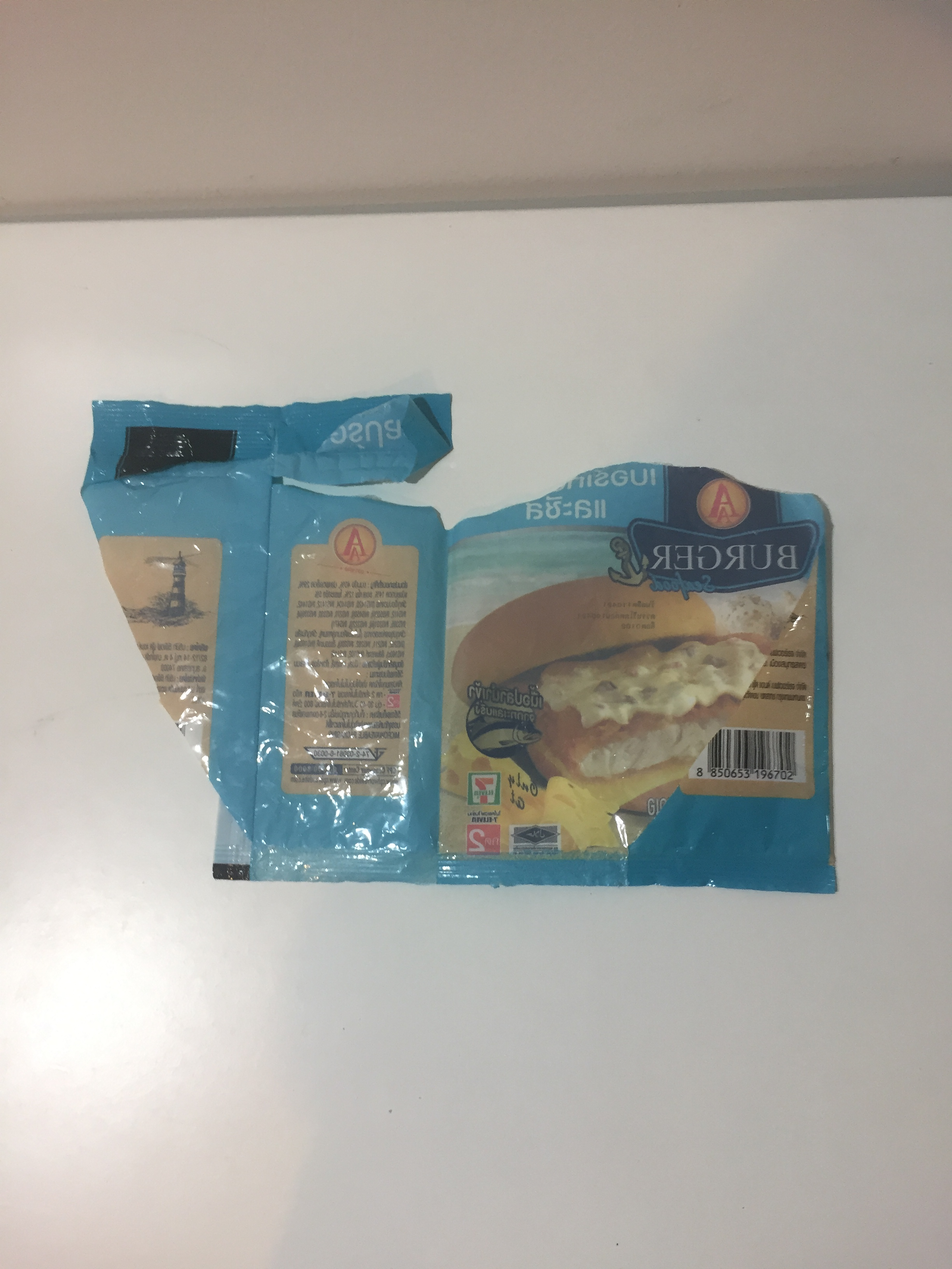plastic: (34, 352, 856, 916), (454, 387, 858, 949), (61, 369, 465, 898)
